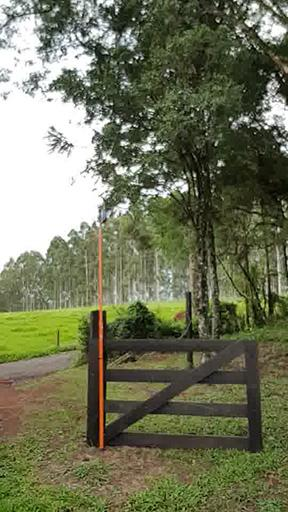Vara_Manobra: (98, 228, 105, 450)
